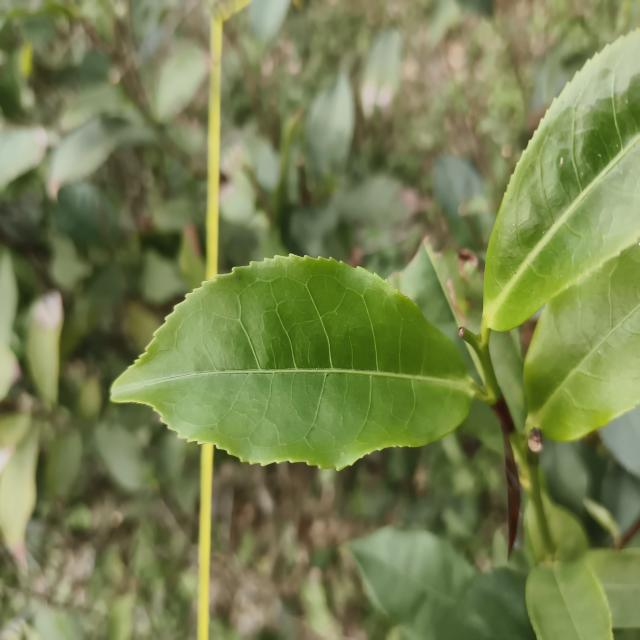Leaf: (112, 256, 476, 468), (483, 31, 640, 330), (524, 242, 640, 440), (348, 527, 486, 640), (47, 118, 151, 199), (526, 560, 613, 640), (0, 427, 39, 565), (465, 567, 536, 640), (306, 72, 355, 176), (155, 45, 220, 122), (338, 174, 427, 226), (434, 156, 483, 248), (585, 548, 640, 629), (26, 291, 63, 408), (361, 30, 402, 117), (95, 424, 145, 491), (0, 127, 48, 190), (141, 249, 187, 304), (46, 430, 82, 497)
